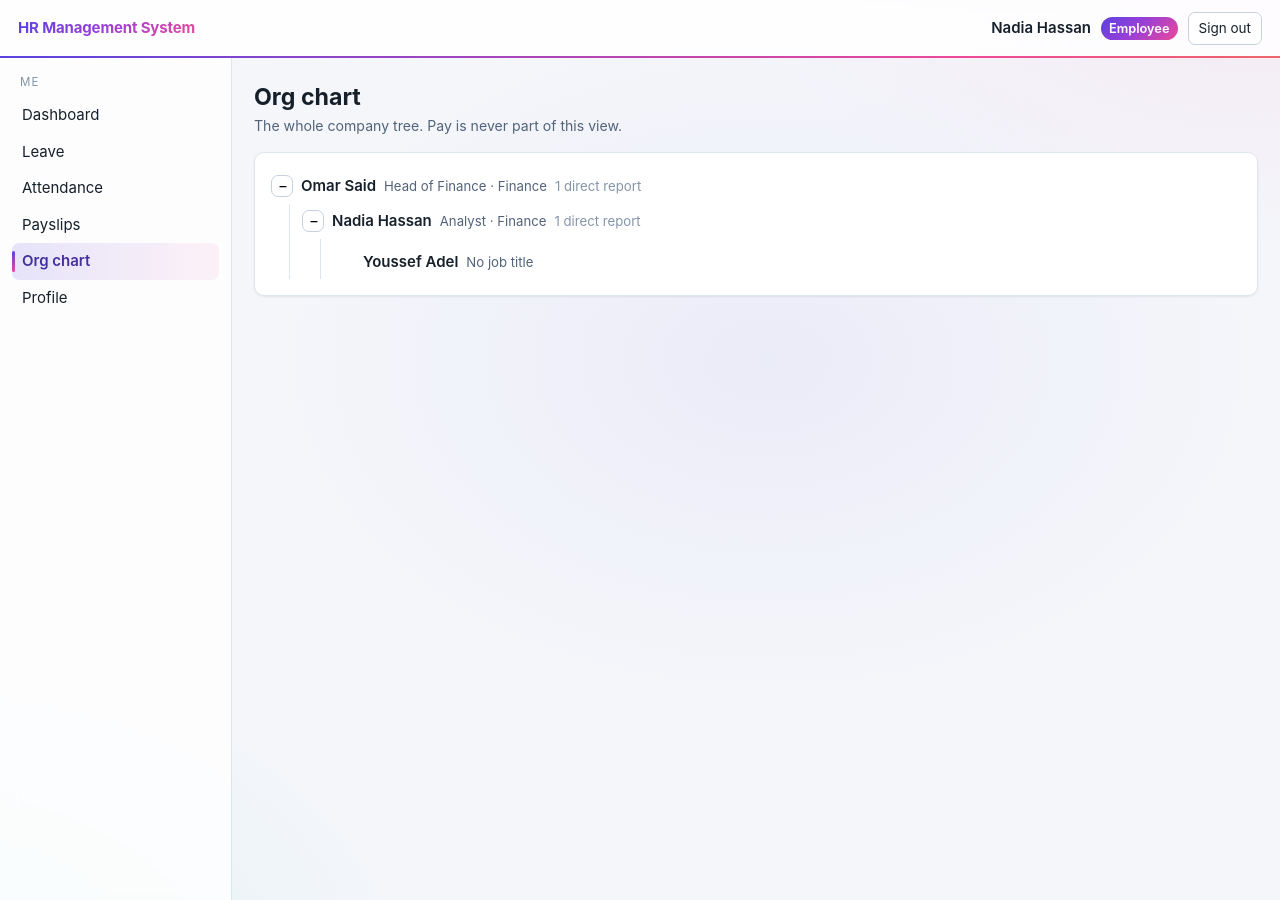
org chart › expands the node again and brings the subtree back
This screenshot has width=1280, height=900.
What coordinates should you click on to do the following:
click the button named "Collapse the reports of Omar Said"
I would click on:
 (282, 186)
Its box is x1=271 y1=175 x2=293 y2=197.
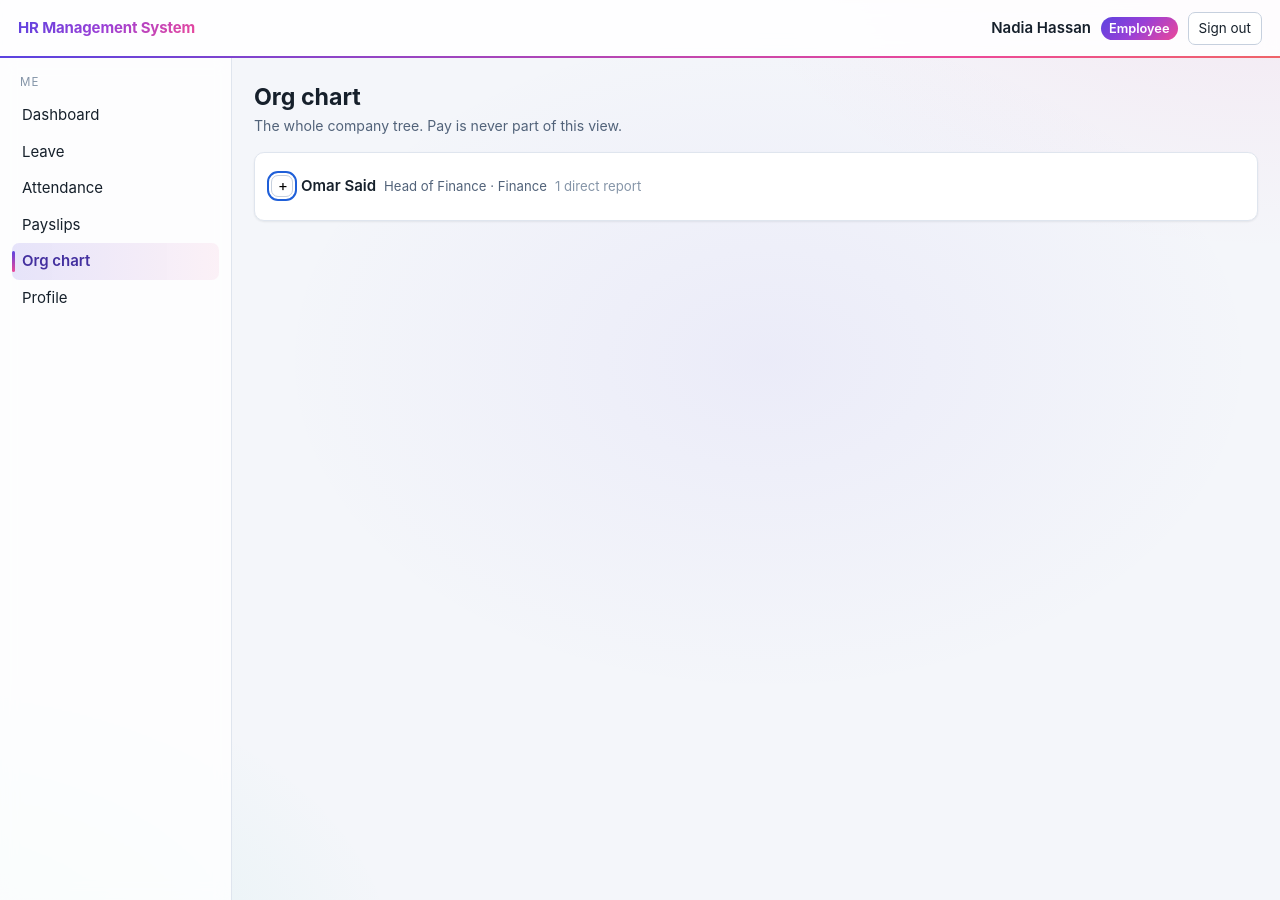
What coordinates should you click on to do the following:
click the button named "Expand the reports of Omar Said"
I would click on:
 (282, 186)
Its box is x1=271 y1=175 x2=293 y2=197.
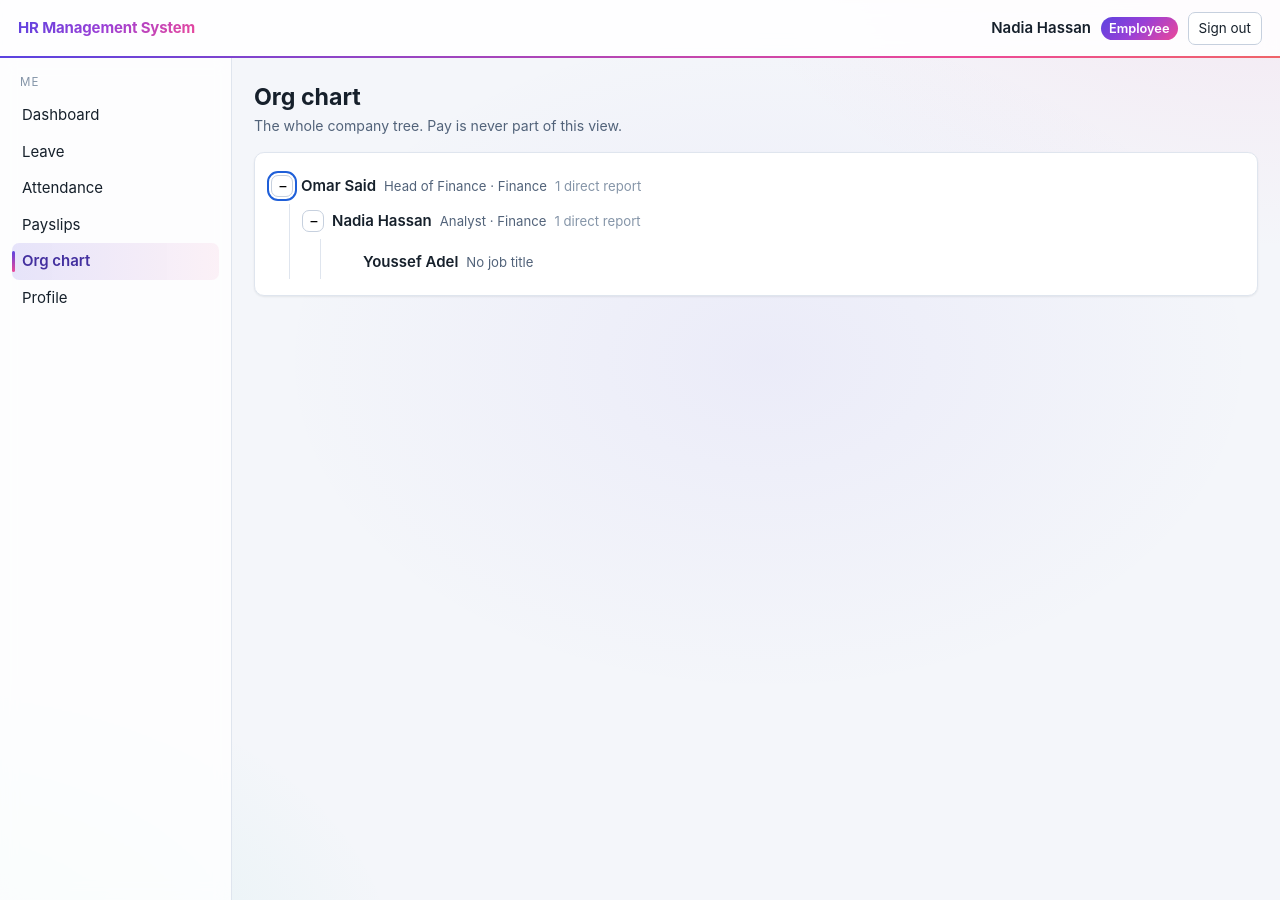
Expected: the text "Nadia Hassan" next to "Analyst" is shown, x1=332 y1=211 x2=432 y2=230
Expected: the text "Youssef Adel" is shown, x1=363 y1=251 x2=458 y2=273
Expected: the button named "Collapse the reports of Omar Said" is expanded, x1=271 y1=175 x2=293 y2=197
